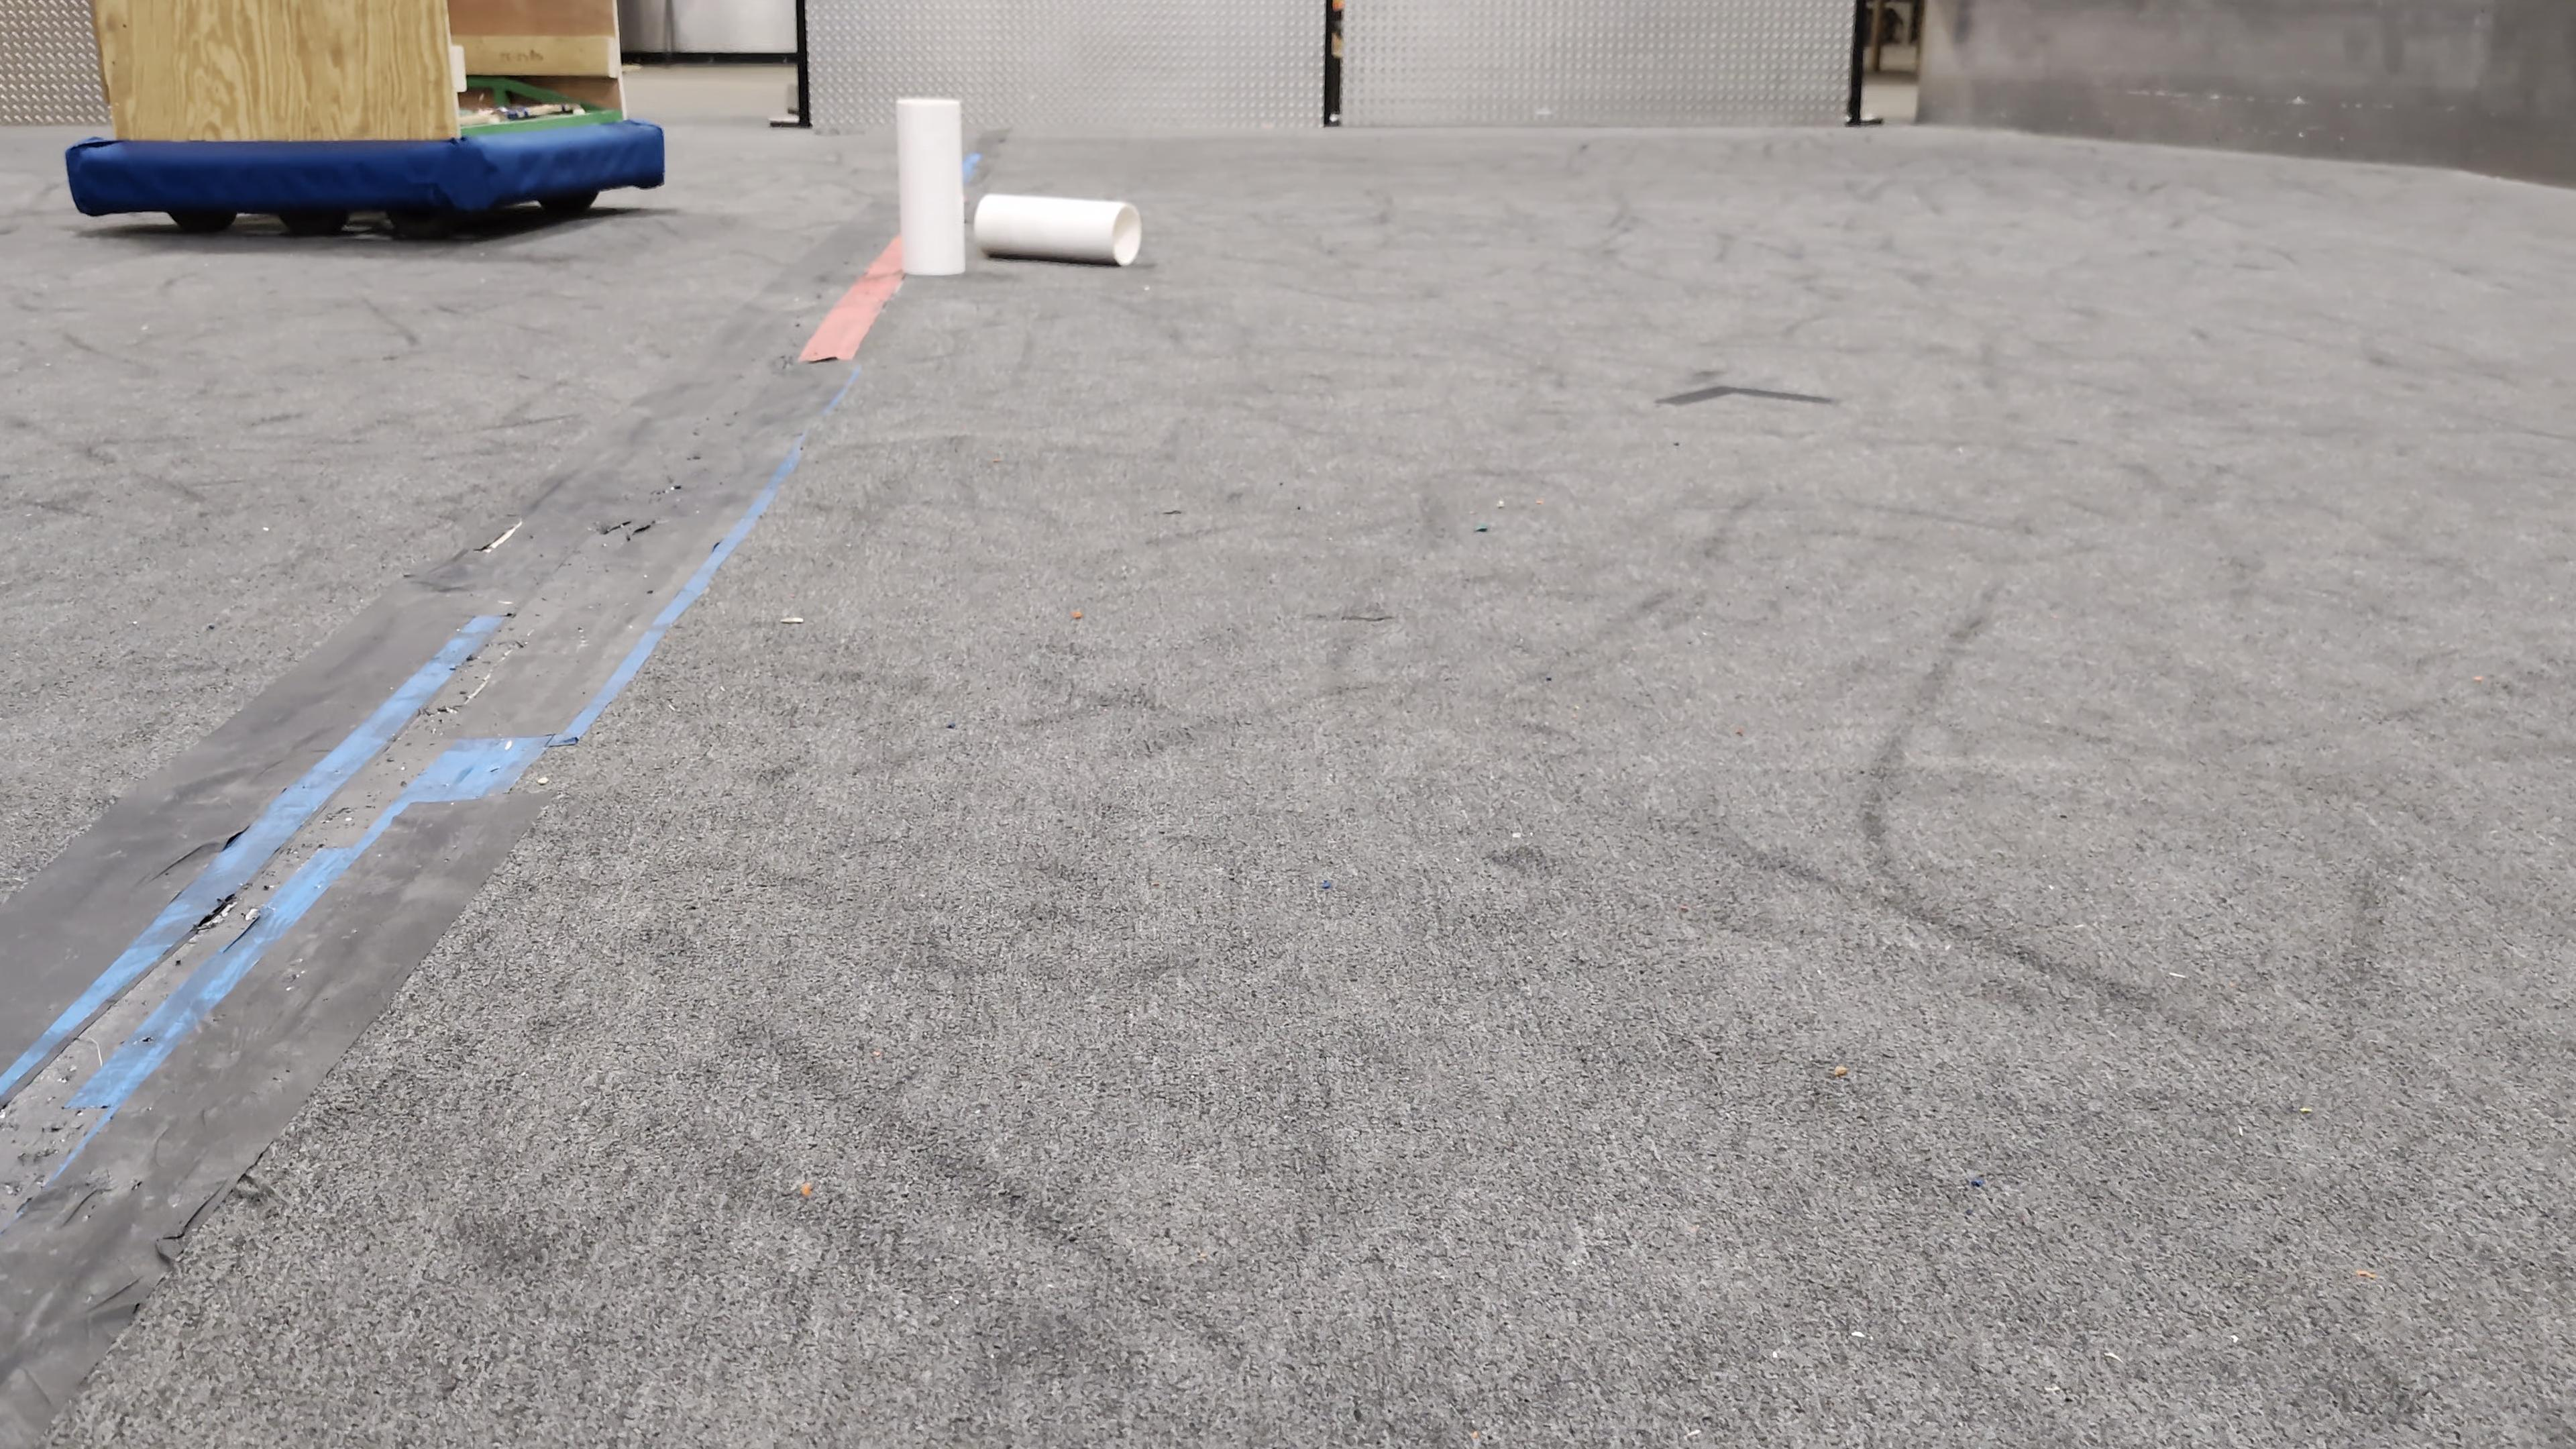coral: (971, 189, 1143, 264), (899, 99, 966, 274)
